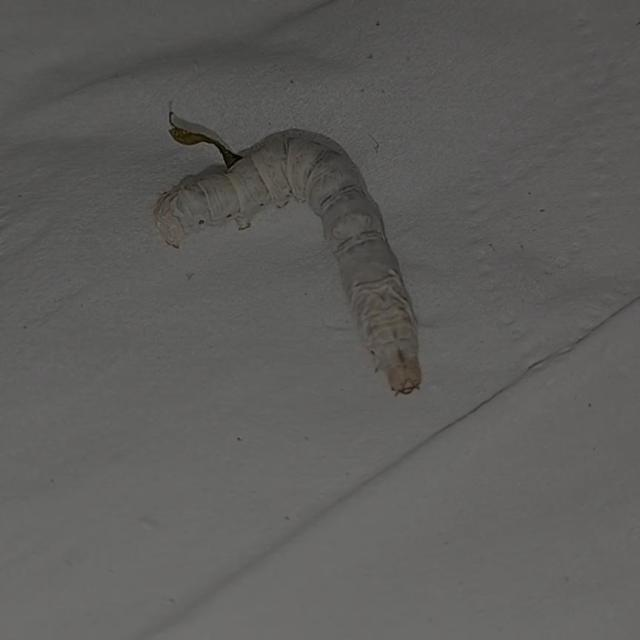Healthy: (135, 100, 437, 419)
